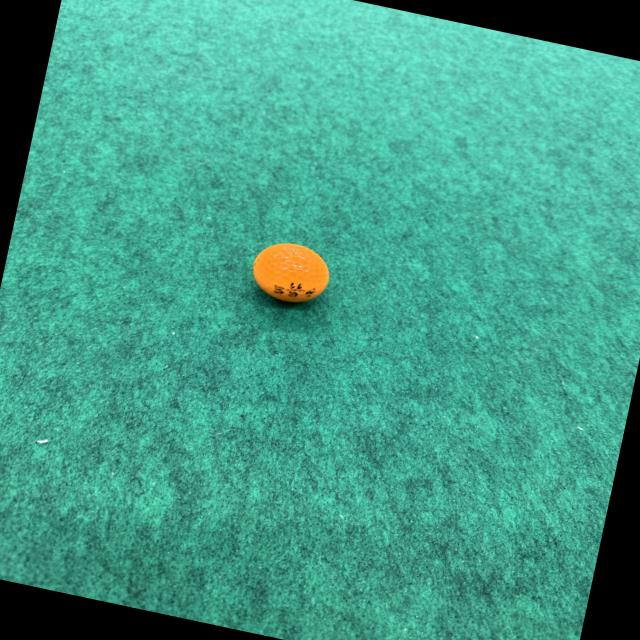ball: (245, 234, 338, 312)
